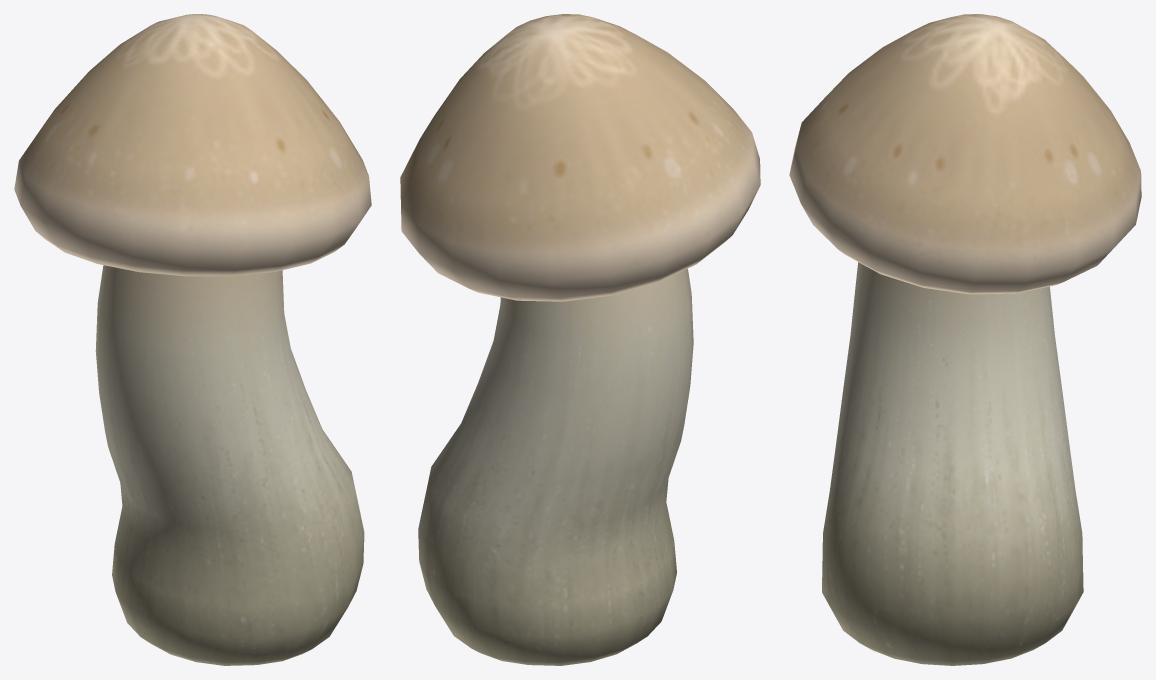
Rendered from mush.gltf.
3 renders of one model, left to right at view 1: azimuth 30°, elevation 25°; view 2: azimuth 150°, elevation 25°; view 3: azimuth 270°, elevation 25°, orthographic. The views are drawn at different scales.
Visible parts, largest first — view 1: mush; view 2: mush; view 3: mush.
Part boxes in pixels (x1,y1,x2,y2): mush: (14, 14, 371, 665); mush: (400, 14, 760, 665); mush: (789, 14, 1141, 665).
Size of the model in its own units: 0.4001 by 0.758 by 0.4001.
1 material, 1 textured.
